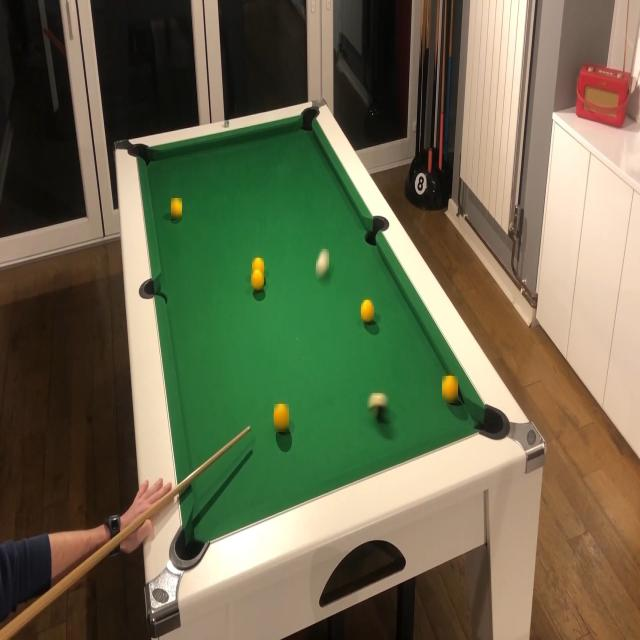Ball: (367, 393, 389, 421), (442, 376, 458, 403), (274, 404, 289, 432), (316, 249, 329, 277), (361, 300, 374, 324), (251, 270, 264, 292), (171, 198, 182, 219), (252, 258, 264, 275)
Billiard table: (113, 98, 545, 636)
